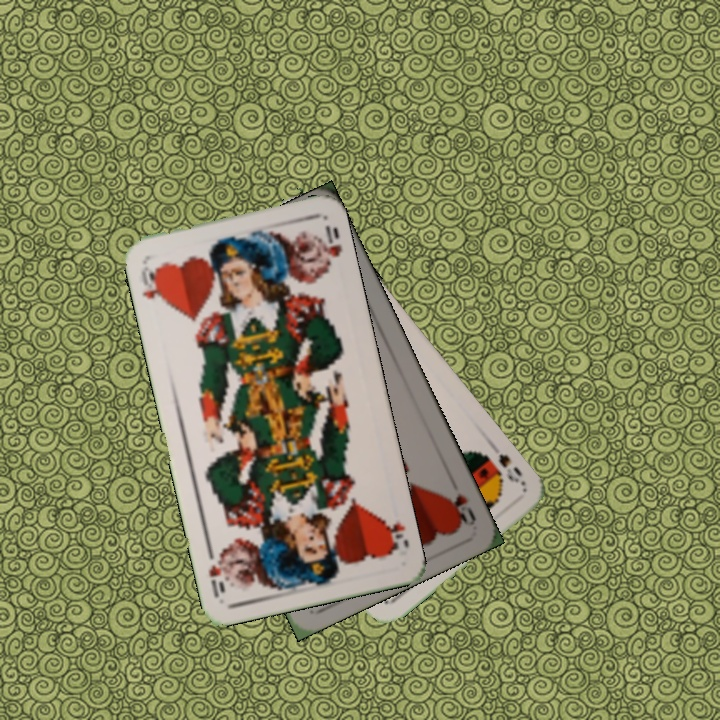HO: (443, 490, 479, 529), (136, 262, 167, 304), (380, 516, 411, 557)
SO: (494, 450, 528, 487)
